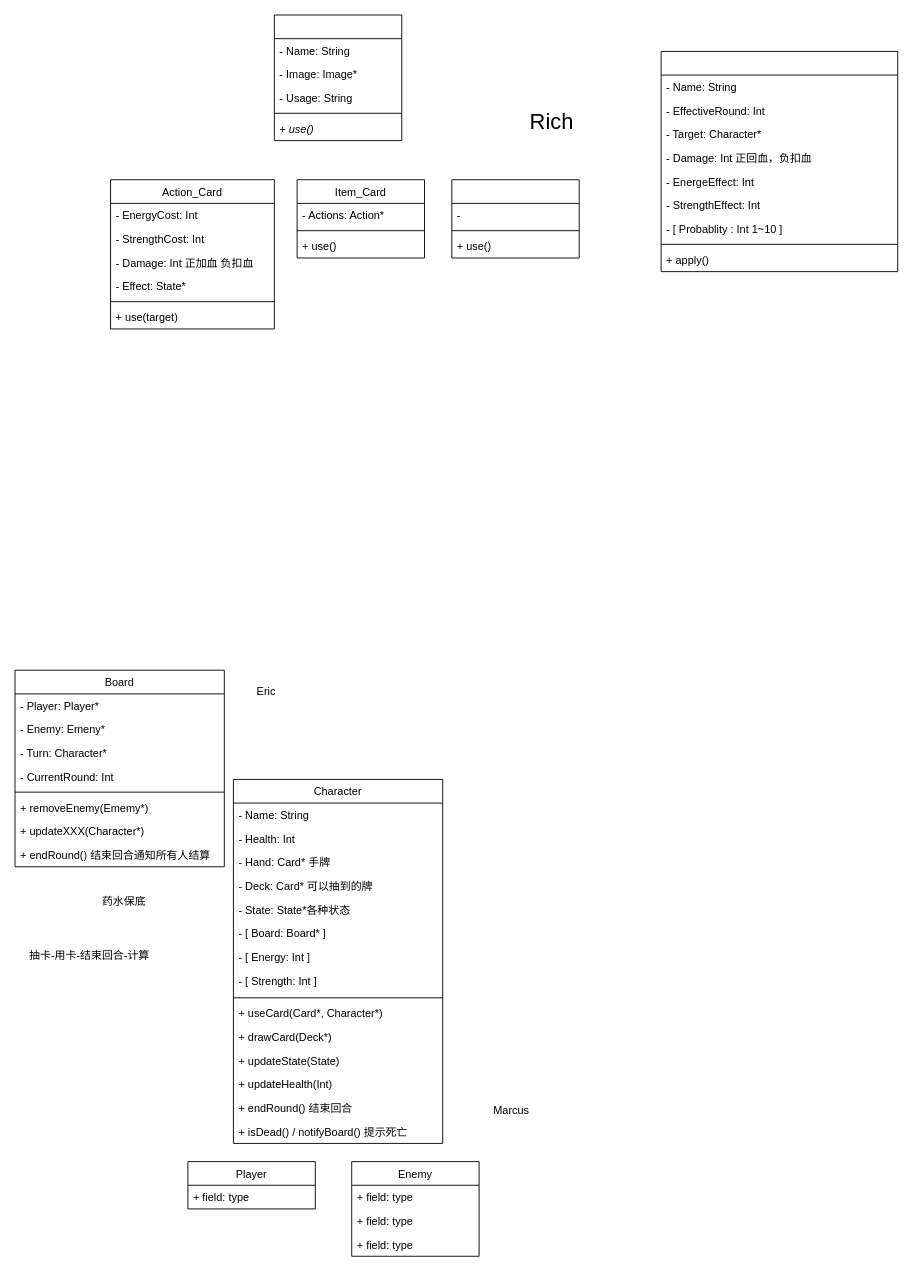
The diagram is 913 pixels wide and 1271 high, and some of its shapes have lost their labels. Each missing label, with the box of its shape:
Card: (273, 14, 402, 141)
Material_Card: (451, 179, 579, 258)
State: (660, 51, 898, 272)
